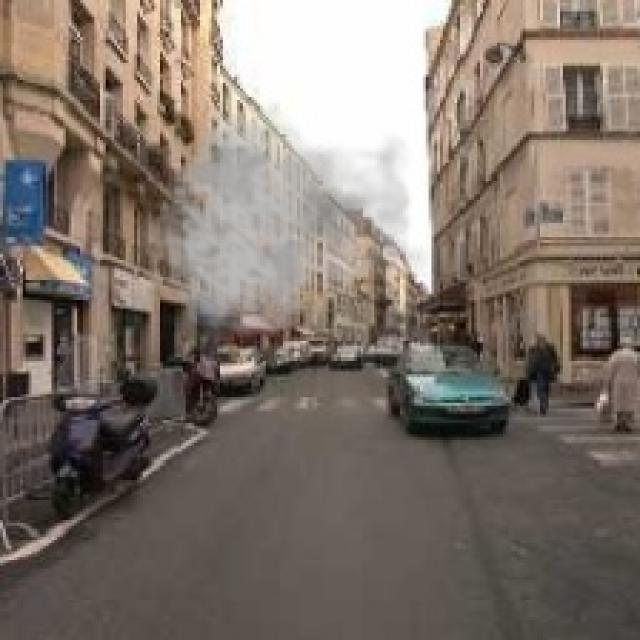smoke: (154, 92, 432, 348)
